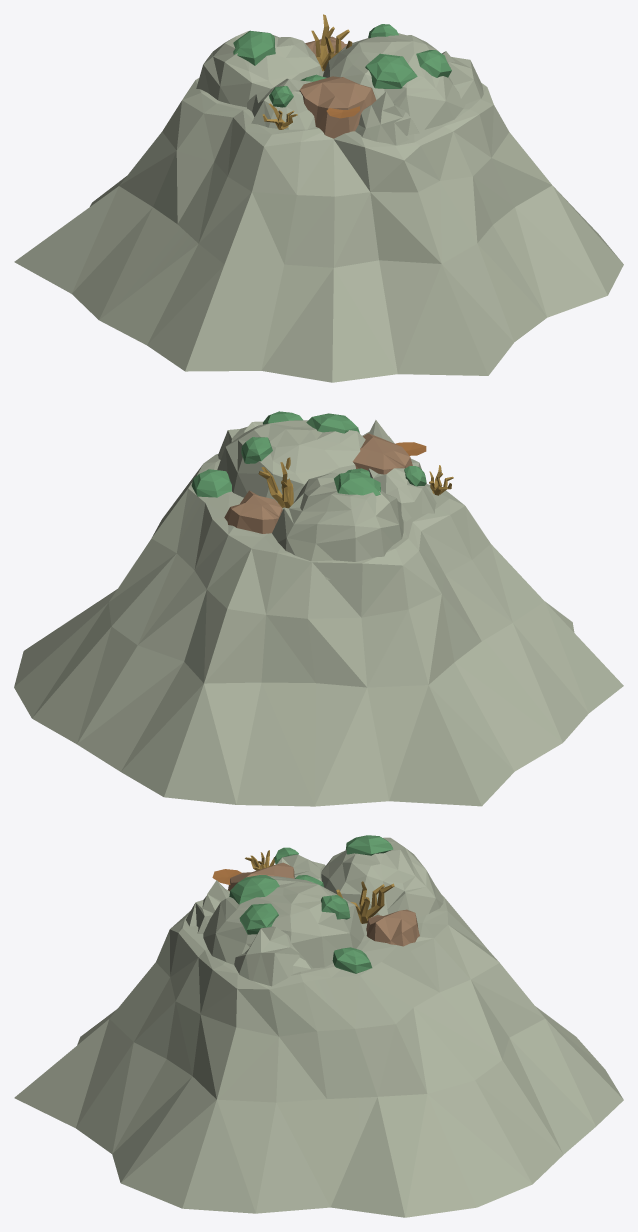
Rendered from reef.fbx.
The picture shows the model from 3 angles, top to bottom: view 1: azimuth 30°, elevation 25°; view 2: azimuth 150°, elevation 25°; view 3: azimuth 270°, elevation 25°; orthographic projection. The views are drawn at different scales.
Parts seen in each view (by area): view 1: reef; view 2: reef; view 3: reef.
Boxes of the visible parts, x1,y1,x2,y2 form: reef: [14, 14, 623, 382]; reef: [14, 411, 623, 806]; reef: [14, 835, 623, 1217].
Bounding box in the file's own units: 5.92 × 2.73 × 6.39.
